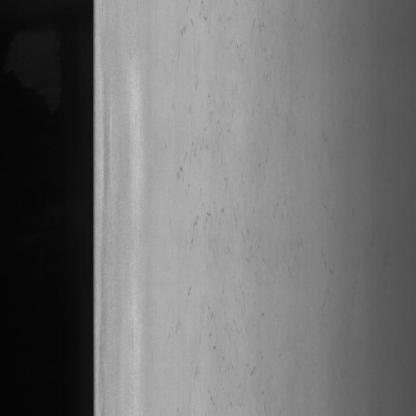silk_spot: (166, 2, 282, 396)
